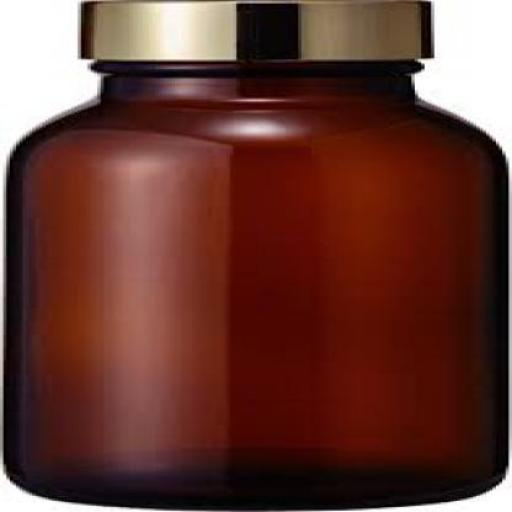glass: (0, 60, 510, 511)
metal: (74, 0, 432, 62)
